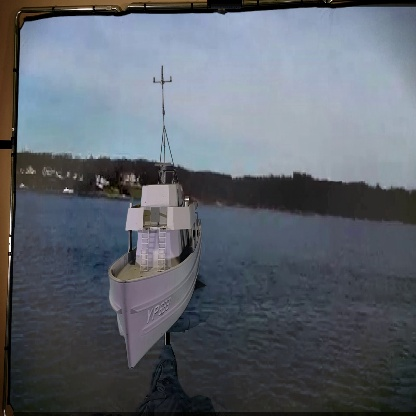YP689: (108, 62, 203, 369)
